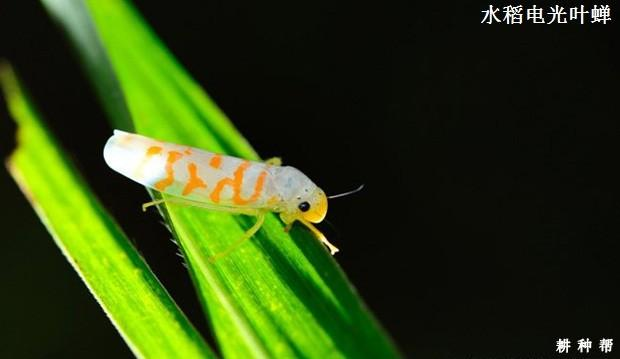Cicadellidae: (103, 128, 357, 254)
